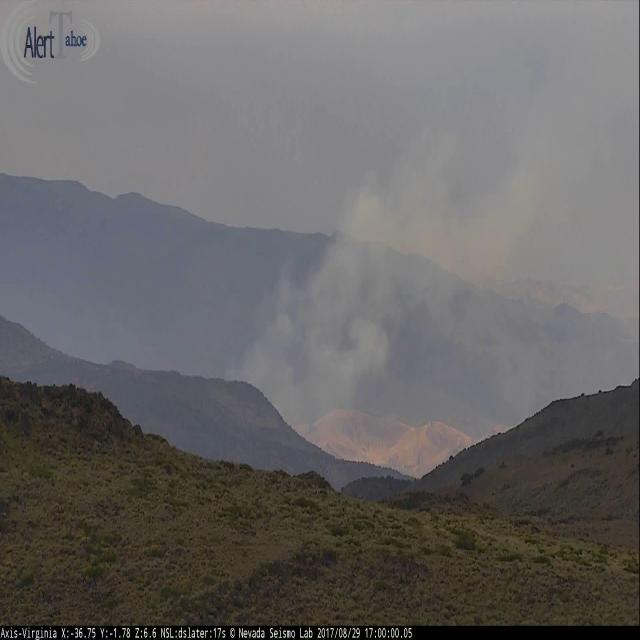smoke: (228, 103, 584, 450)
